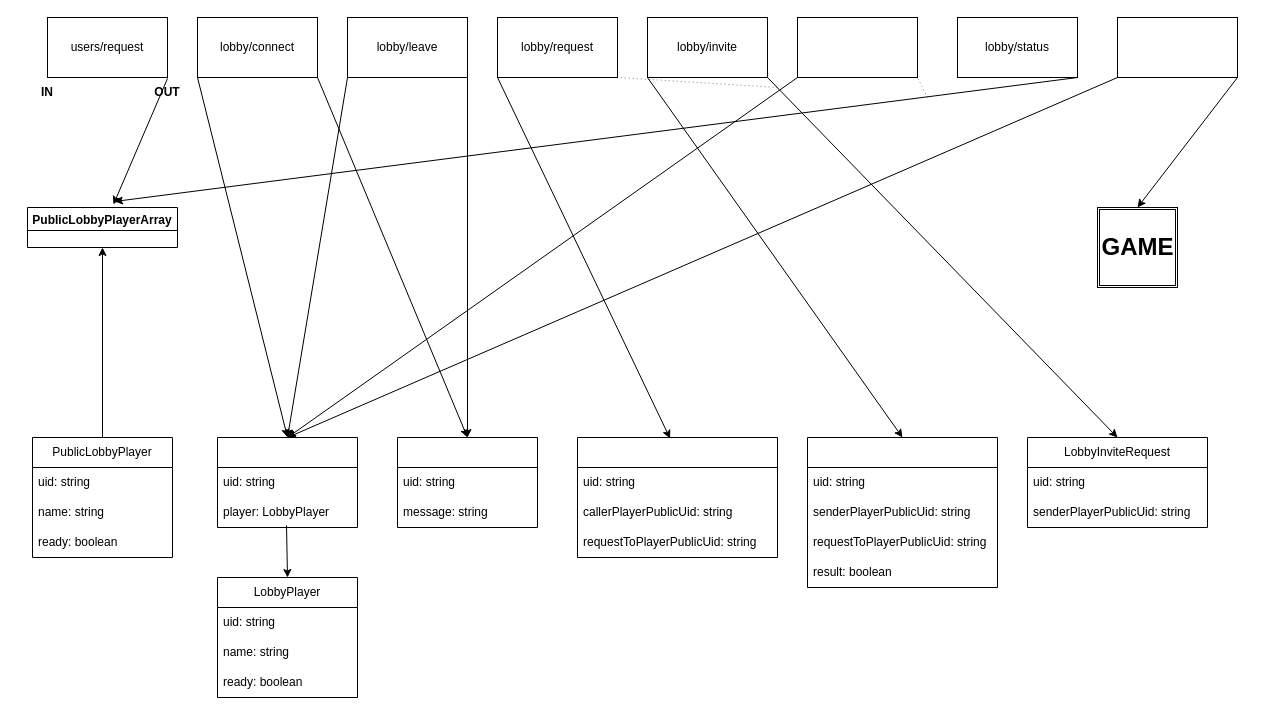
This 1263x715 diagram has some shape labels left out. Each missing label, with the box of its shape:
lobby/ready: (796, 16, 918, 78)
lobby/start: (1116, 16, 1238, 78)
LobbyInviteResponse: (806, 436, 998, 588)
LobbyJoinRequest: (576, 436, 778, 558)
LobbyRequest: (216, 436, 358, 528)
LobbyResponse: (396, 436, 538, 528)
